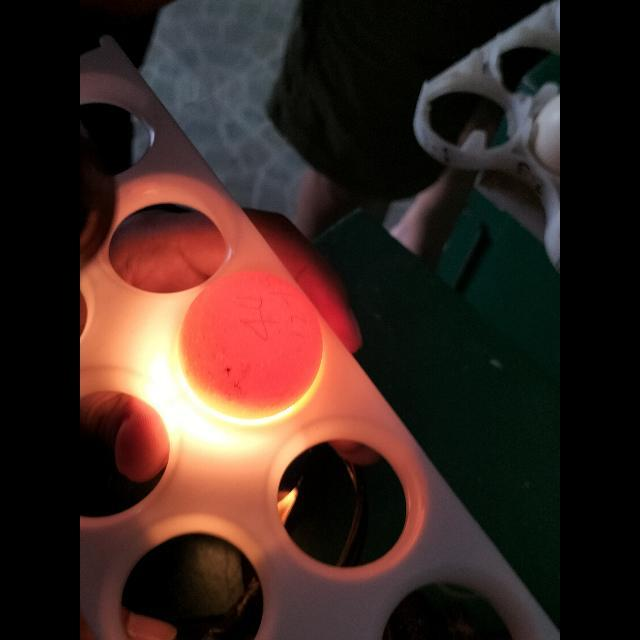Infertile: (184, 270, 328, 414)
